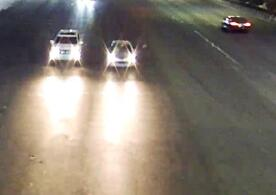car: (48, 27, 84, 66), (106, 37, 137, 72), (220, 12, 254, 34)
